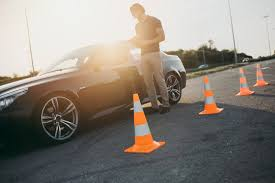car: (1, 40, 188, 144)
cone: (128, 93, 166, 153), (197, 76, 222, 114), (237, 68, 252, 95), (255, 64, 268, 87)
